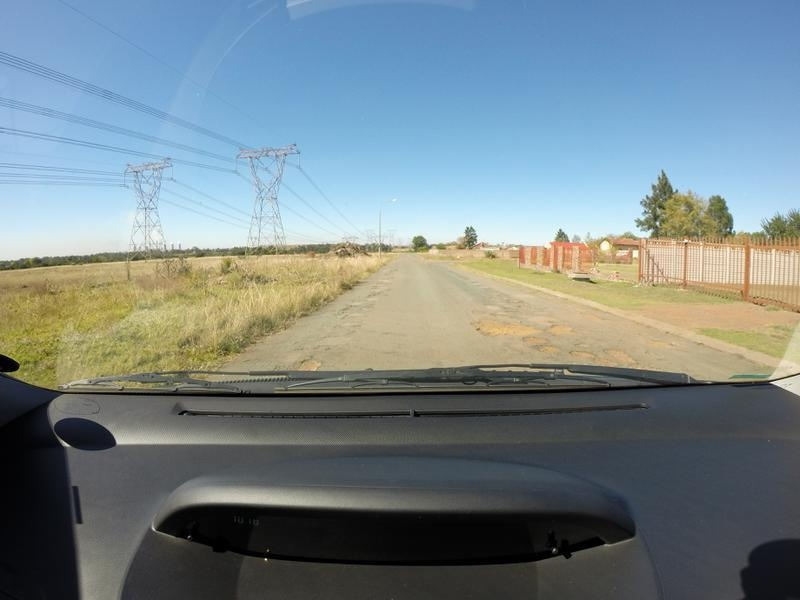pothole: (463, 308, 544, 342), (602, 342, 643, 364), (548, 315, 581, 336), (293, 350, 327, 369), (651, 336, 689, 352), (570, 349, 600, 361), (532, 342, 563, 352)
